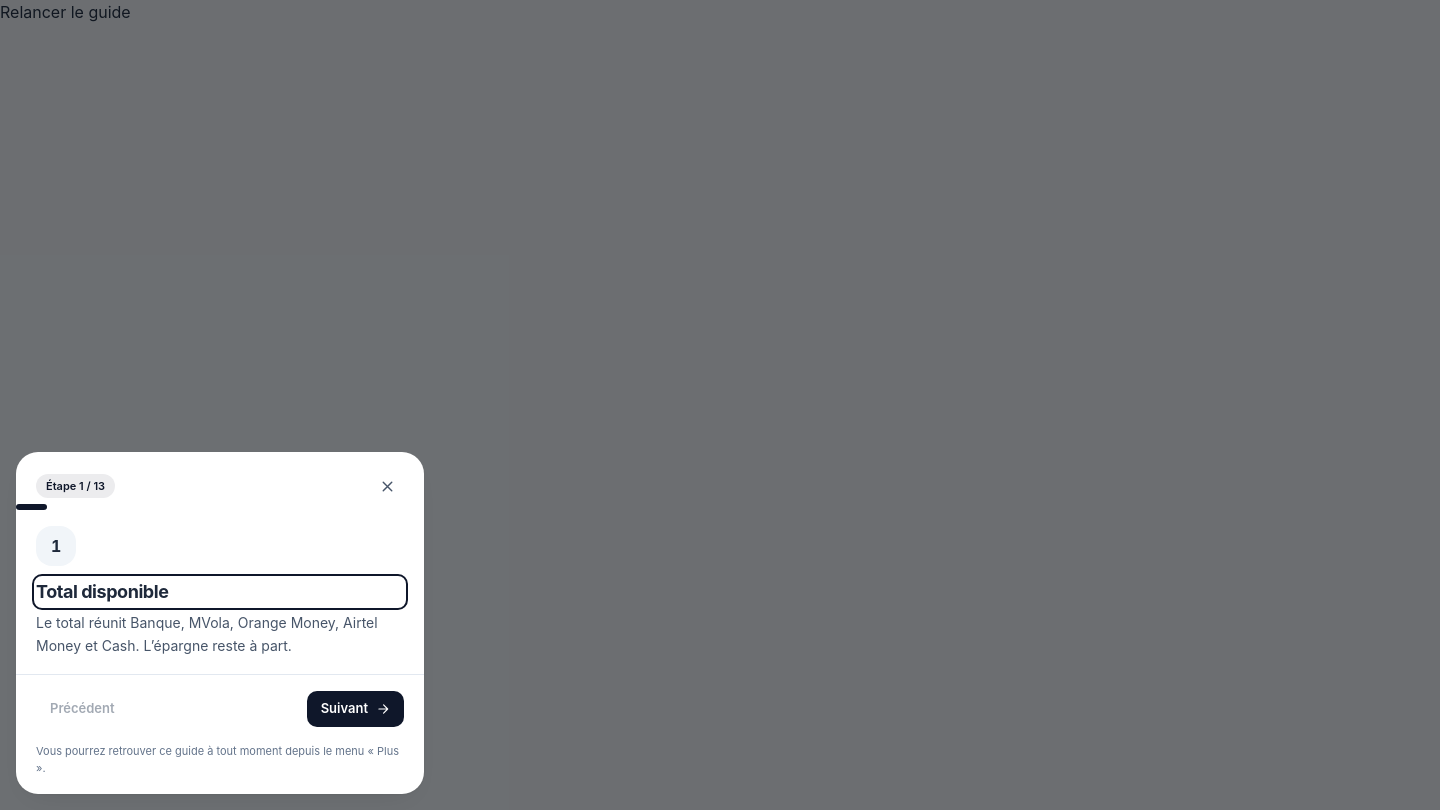
Test: Prise en main guidée — OnboardingProvider + Tour › fermer le guide ne persiste rien
Click the button named "Quitter le guide sans rien enregistrer" at (388, 486), box [371,468,404,504]
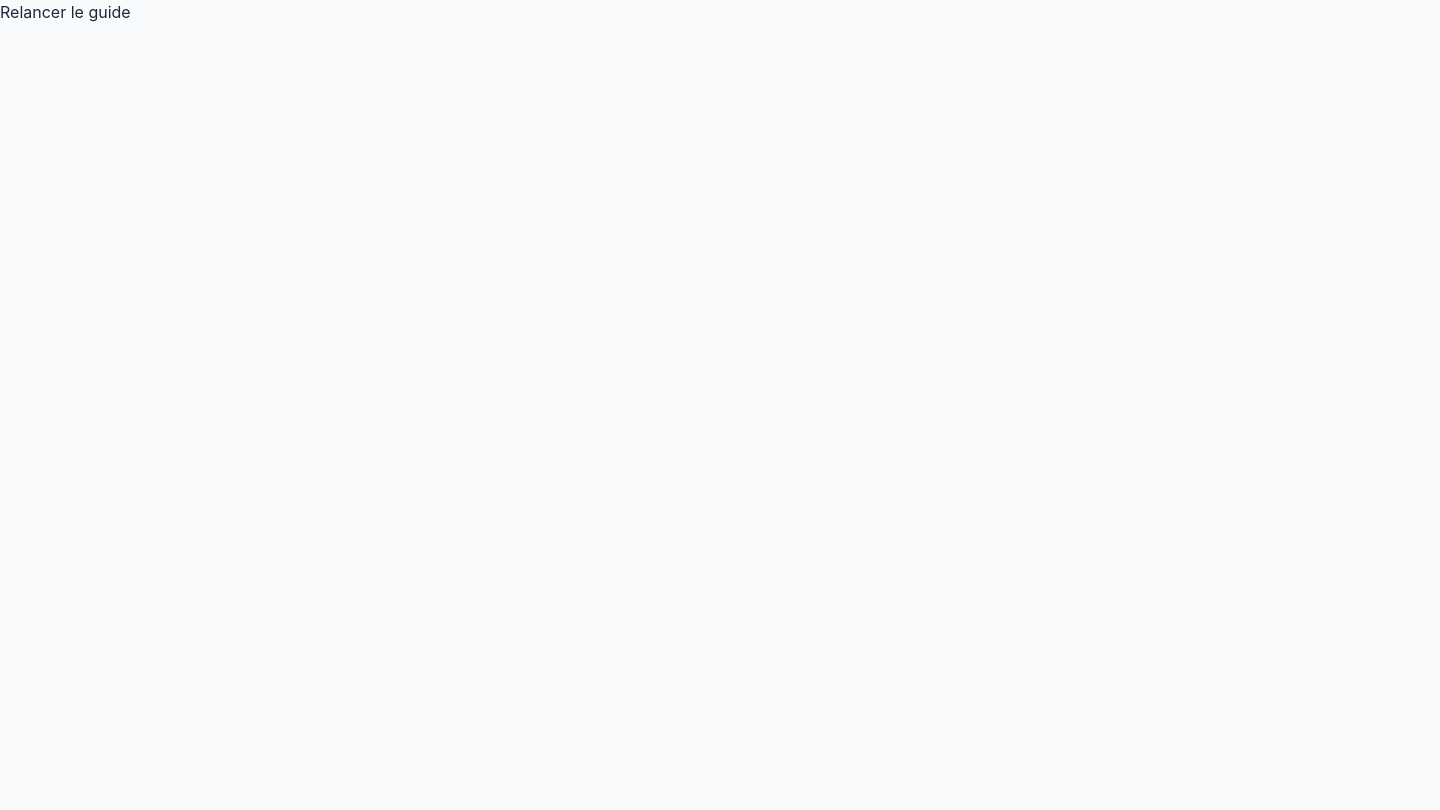
Check: no dialogs are shown
